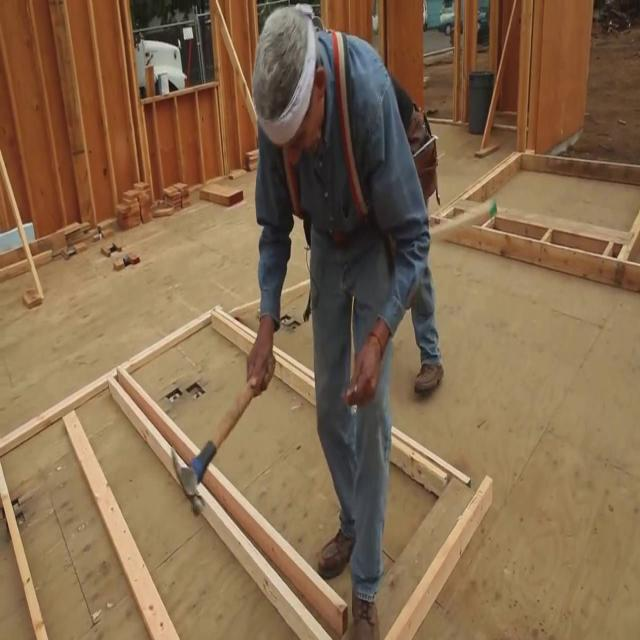hammer: (171, 350, 274, 518)
